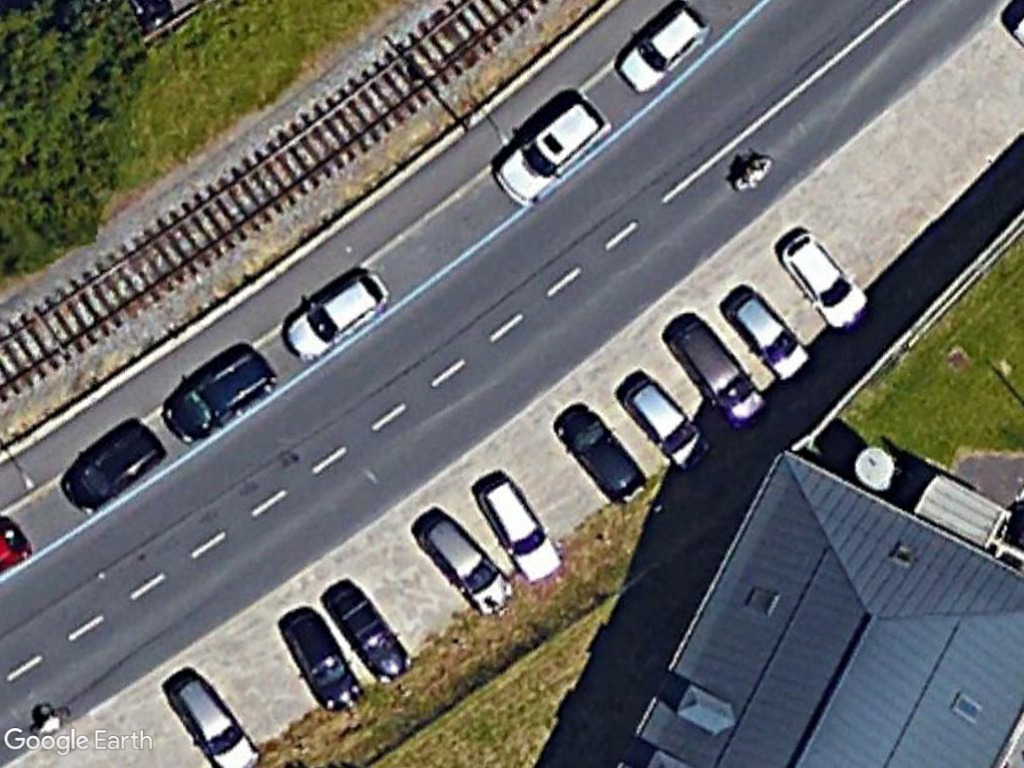car: (493, 87, 614, 211), (161, 340, 278, 448), (278, 261, 390, 369), (666, 319, 771, 433), (57, 414, 161, 519), (409, 516, 515, 619), (474, 471, 563, 589), (156, 674, 265, 768), (777, 229, 873, 334), (617, 376, 715, 474), (279, 605, 365, 716), (720, 289, 815, 384), (558, 410, 650, 508), (615, 2, 713, 91)
